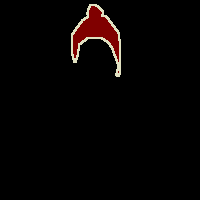hat: (72, 5, 120, 76)
